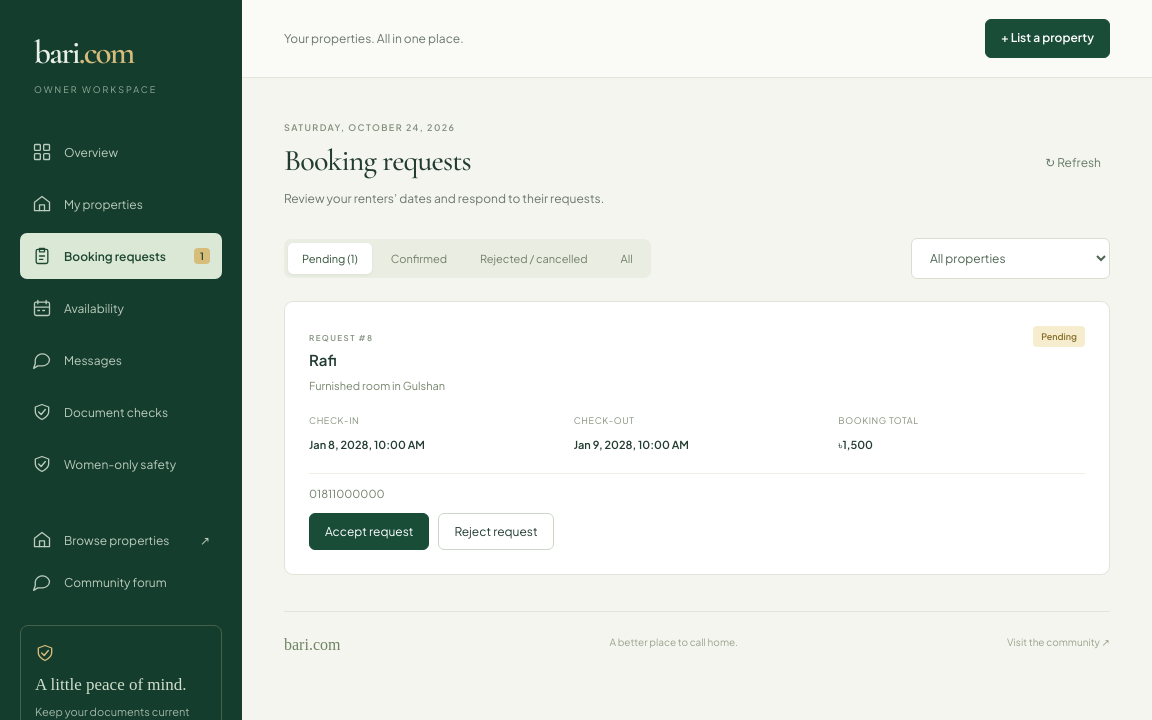
Scenario: rejects an incoming request and shows the owner decision in history
The image size is (1152, 720).
Click the button "Reject request": point(496, 532) 438,513 -> 554,550
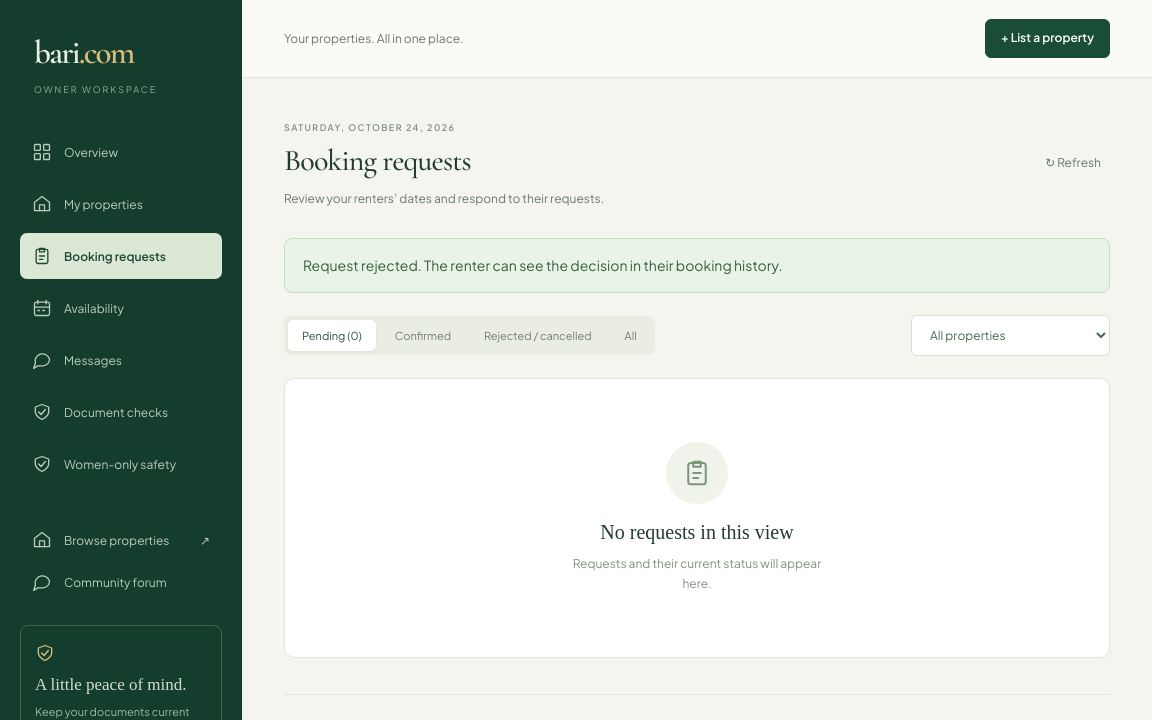
Expected: the text "Request rejected. The renter can see the decision in their booking history." is shown, 284,238 -> 1110,292
Click the button "Rejected / cancelled": point(538, 335) 470,320 -> 606,350
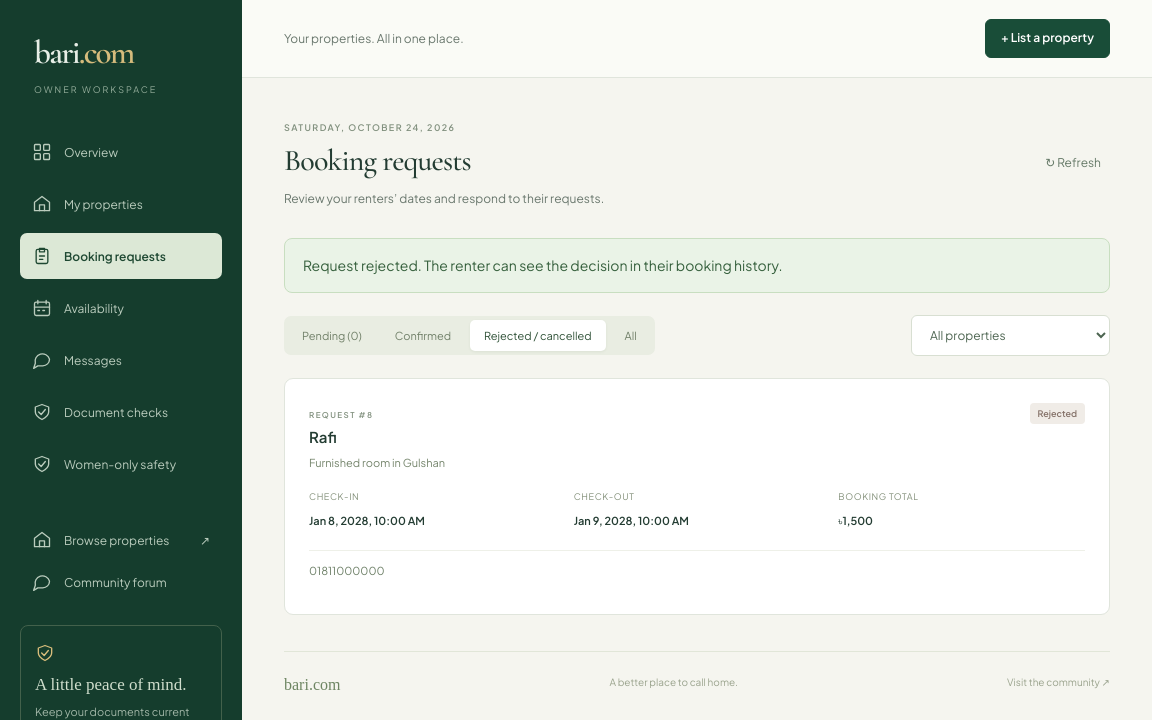
Expected: the text "Rejected" is shown, 1030,402 -> 1085,424
